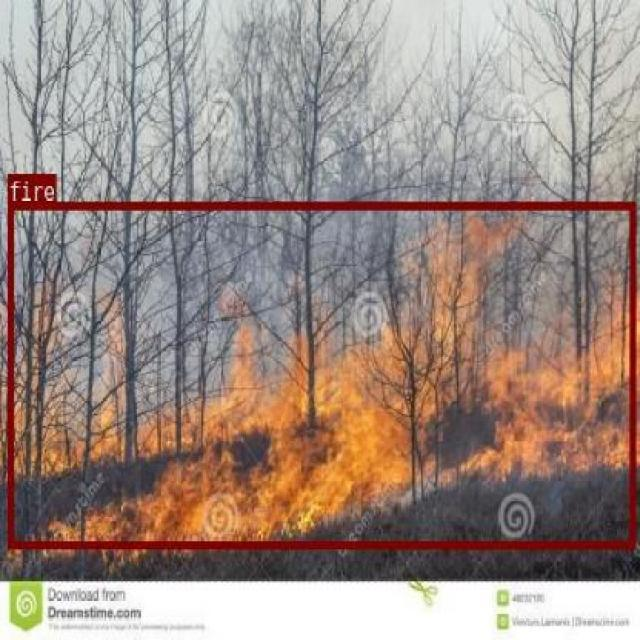Fire: (7, 201, 635, 547)
